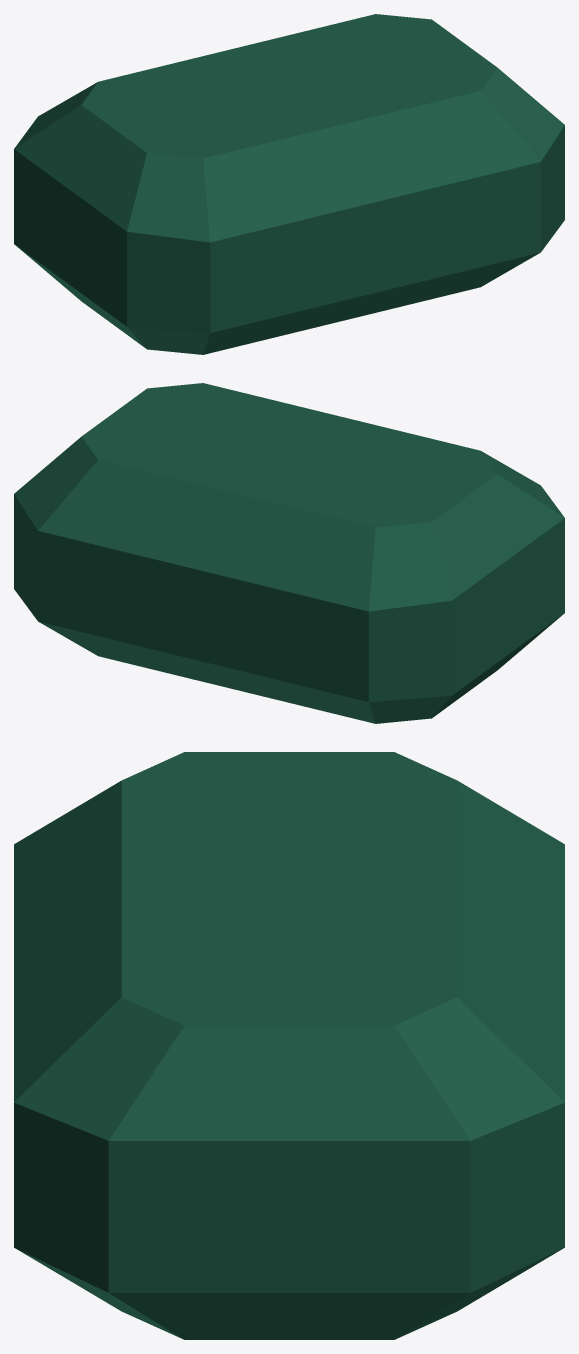
File: emerald.fbx
3 views of the same model, one above another, from view 1: azimuth 30°, elevation 25°; view 2: azimuth 150°, elevation 25°; view 3: azimuth 270°, elevation 25° (orthographic). The views are drawn at different scales.
Visible parts, largest first — view 1: emerald; view 2: emerald; view 3: emerald.
Part boxes in pixels (x1,y1,x2,y2): emerald: (14, 14, 564, 354); emerald: (14, 383, 564, 723); emerald: (14, 752, 564, 1339).
Size of the model in its own units: 14 by 6 by 9.53.
